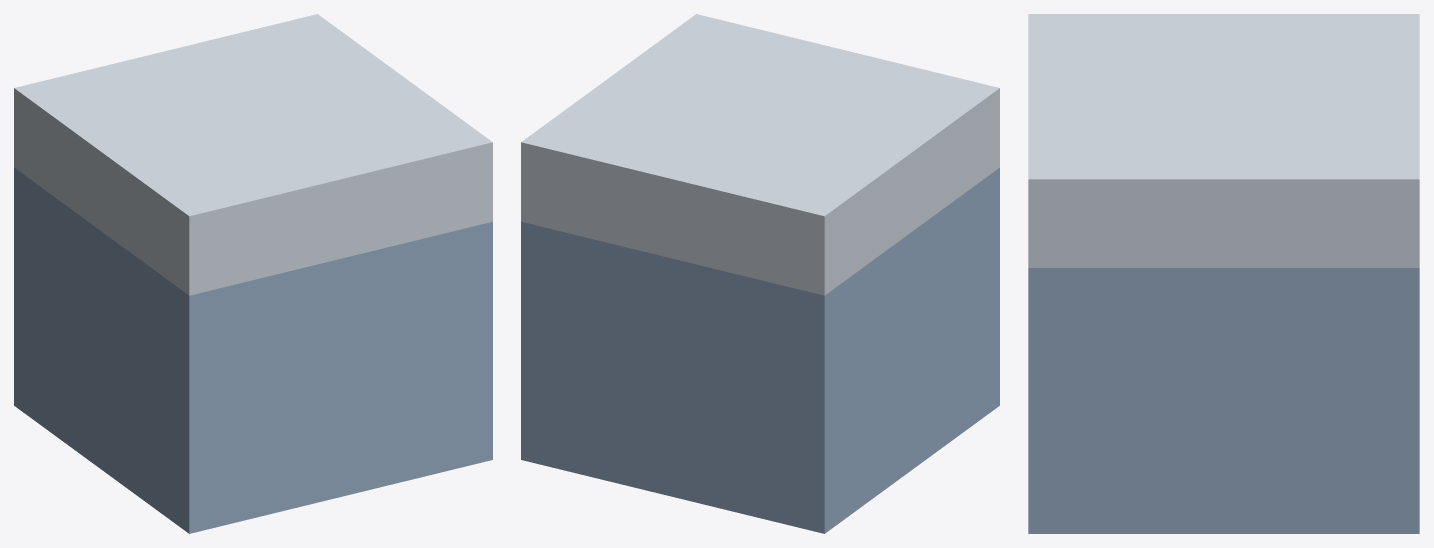
File: stone-block-with-snow.obj
3 views of the same model, side by side, from view 1: azimuth 30°, elevation 25°; view 2: azimuth 150°, elevation 25°; view 3: azimuth 270°, elevation 25° (orthographic). The views are drawn at different scales.
Size of the model in its own units: 8 by 8 by 8.
1 material, 1 textured.
